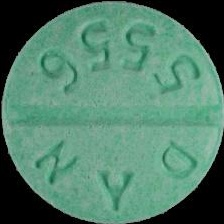0591-5556: (0, 0, 224, 224)
